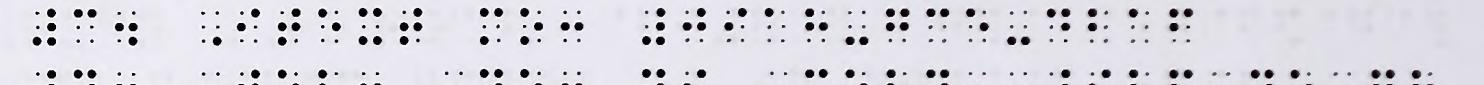0: (683, 7, 707, 44)
1: (1128, 7, 1151, 46), (764, 8, 787, 45)
2: (1089, 9, 1110, 44)
3: (925, 8, 950, 44), (74, 6, 96, 44)
4: (1047, 8, 1071, 45)
5: (966, 8, 989, 45)
6: (1169, 5, 1194, 45)
7: (887, 8, 909, 45)
8: (805, 8, 829, 43)
9: (724, 4, 749, 44)
I: (236, 9, 260, 43)
capital: (200, 11, 221, 47)
e: (320, 10, 341, 44)
m: (479, 7, 502, 47)
number: (32, 6, 57, 48), (642, 9, 667, 47)
o: (518, 7, 543, 46)
t: (399, 7, 422, 48), (277, 9, 300, 46)
x: (358, 8, 382, 48)
